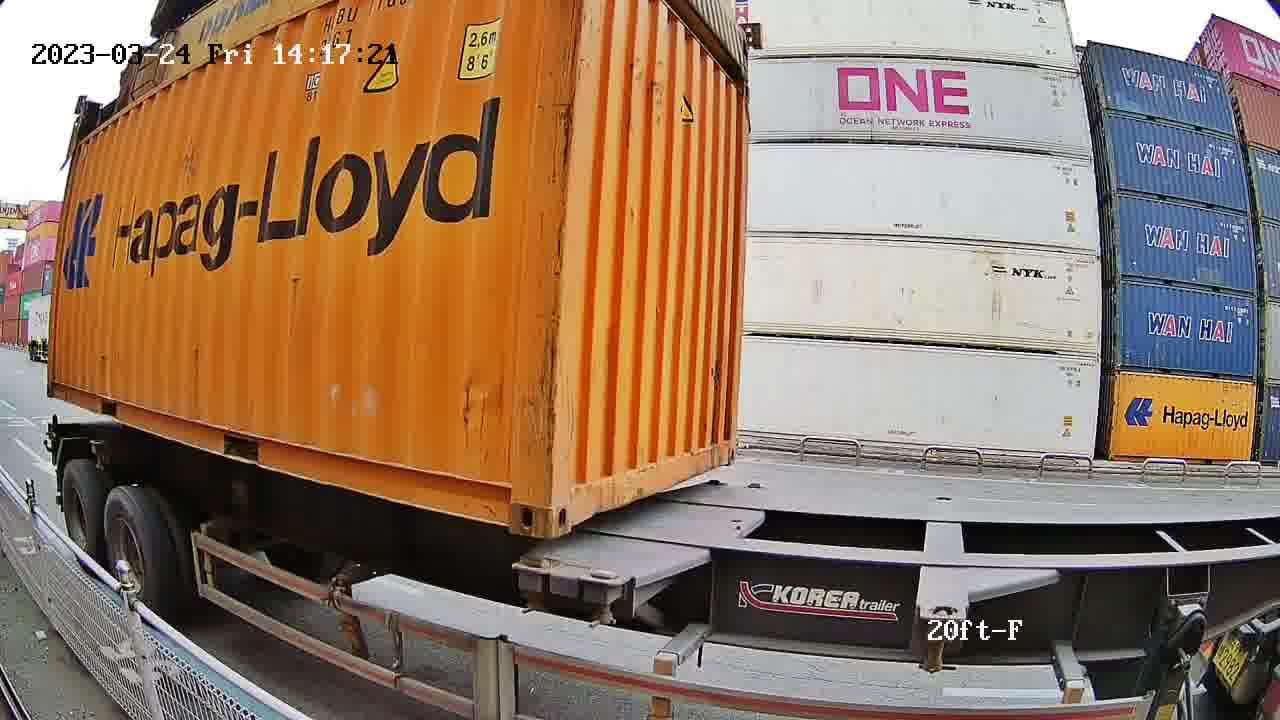Chassis: (516, 480, 725, 568), (588, 484, 766, 585)
Cone: (586, 568, 624, 633), (518, 557, 553, 614)
Hole_L: (549, 450, 597, 542)
Hole_R: (470, 453, 550, 540), (713, 424, 738, 469)
Tire: (105, 491, 157, 613), (64, 465, 104, 569)
